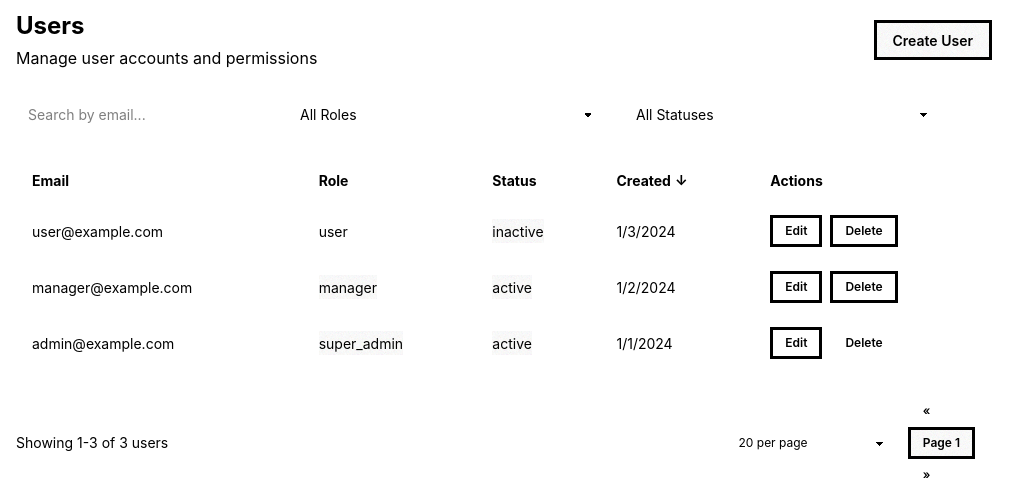
Test: UsersTable › Sorting › should toggle sort direction when same header clicked
Click the column heading with test id "sort-email".
click(50, 180)  # box [16, 158, 303, 203]
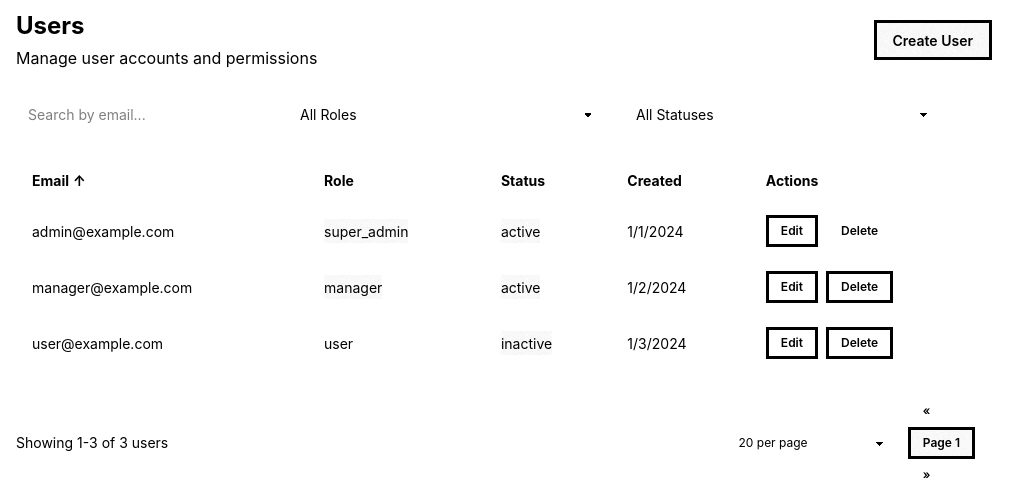
Now the text "↑" is shown, box [73, 172, 86, 189]
Click the column heading with test id "sort-email".
click(50, 180)  # box [16, 158, 308, 203]
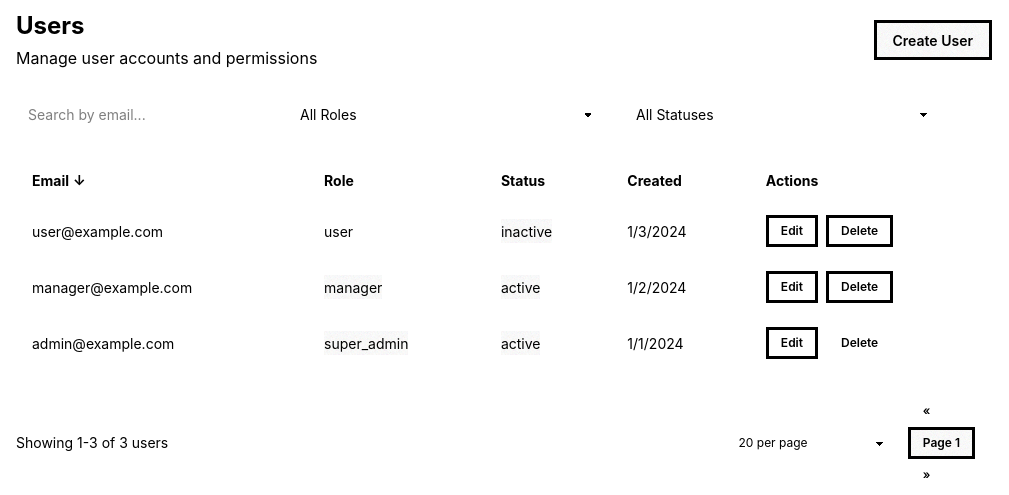
Now the text "↓" is shown, box [73, 172, 86, 189]
